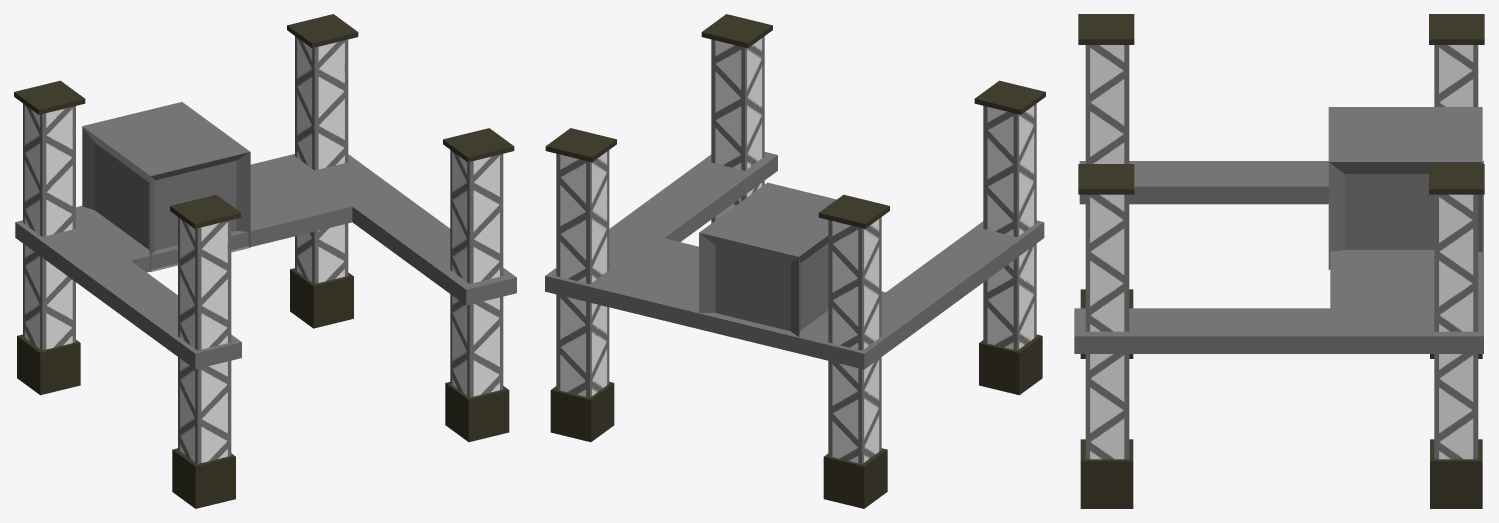
File: Vehicle Assembler.FBX
3 renders of one model, left to right at view 1: azimuth 30°, elevation 25°; view 2: azimuth 150°, elevation 25°; view 3: azimuth 270°, elevation 25°, orthographic. The views are drawn at different scales.
Visible parts, largest first — view 1: Box006, Box007, Box003, Box002, Box004, Box005, Box015, Box012, Box013, Box014, Box009, Box010 (+2 smaller); view 2: Box006, Box007, Box004, Box005, Box003, Box002, Box013, Box014, Box012, Box009, Box010, Box011 (+1 smaller); view 3: Box006, Box007, Box005, Box002, Box003, Box015, Box014, Box004, Box008, Box009, Box010, Box011.
Part boxes in pixels (x1=…): Box006: x1=15, y1=154, x2=516, y2=369; Box007: x1=82, y1=102, x2=250, y2=271; Box003: x1=178, y1=217, x2=231, y2=463; Box002: x1=450, y1=150, x2=503, y2=397; Box004: x1=23, y1=103, x2=75, y2=350; Box005: x1=295, y1=36, x2=348, y2=283; Box015: x1=445, y1=382, x2=509, y2=442; Box012: x1=172, y1=448, x2=235, y2=508; Box013: x1=17, y1=334, x2=80, y2=395; Box014: x1=290, y1=268, x2=353, y2=328; Box009: x1=443, y1=128, x2=514, y2=162; Box010: x1=287, y1=14, x2=358, y2=48; Box006: x1=545, y1=152, x2=1044, y2=369; Box007: x1=699, y1=182, x2=836, y2=336; Box004: x1=828, y1=217, x2=881, y2=463; Box005: x1=556, y1=150, x2=609, y2=397; Box003: x1=983, y1=104, x2=1036, y2=350; Box002: x1=711, y1=36, x2=764, y2=223; Box013: x1=823, y1=448, x2=887, y2=508; Box014: x1=550, y1=381, x2=614, y2=442; Box012: x1=979, y1=334, x2=1042, y2=395; Box009: x1=701, y1=14, x2=772, y2=48; Box010: x1=545, y1=128, x2=616, y2=162; Box011: x1=818, y1=194, x2=889, y2=228; Box006: x1=1074, y1=161, x2=1483, y2=353; Box007: x1=1328, y1=107, x2=1482, y2=269; Box005: x1=1434, y1=194, x2=1478, y2=459; Box002: x1=1085, y1=194, x2=1129, y2=459; Box003: x1=1085, y1=45, x2=1129, y2=163; Box015: x1=1080, y1=439, x2=1133, y2=508; Box014: x1=1430, y1=439, x2=1482, y2=508; Box004: x1=1434, y1=45, x2=1478, y2=106; Box008: x1=1078, y1=14, x2=1134, y2=44; Box009: x1=1078, y1=164, x2=1134, y2=194; Box010: x1=1429, y1=164, x2=1484, y2=194; Box011: x1=1429, y1=14, x2=1484, y2=44.
Bounding box in the file's own units: 47.53 × 40.55 × 46.86.
3 materials, 1 textured.
